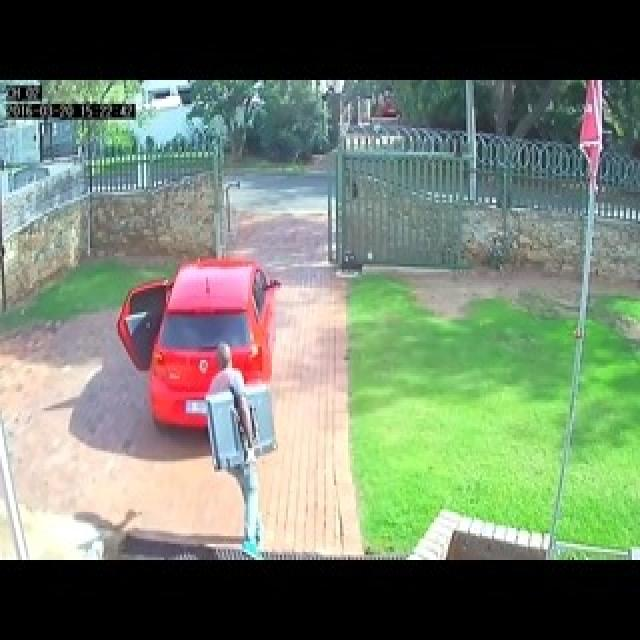thief: (192, 323, 270, 472)
